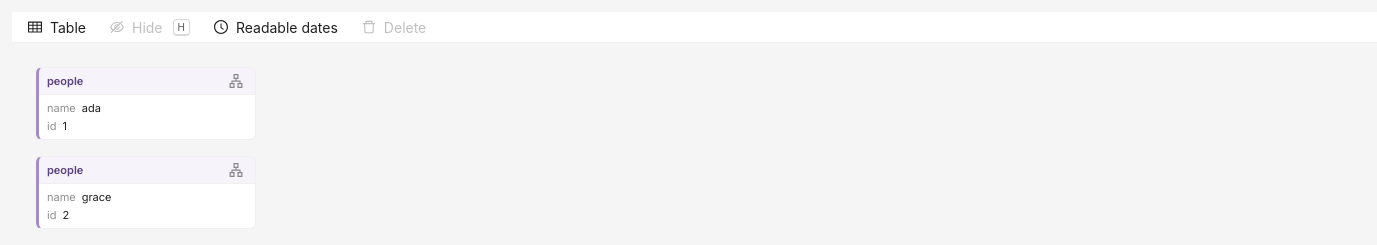
it: deleting cards › Backspace on cards that are all crossed out lets them go again
Click the element named "people 1".
click(146, 104)  # box [36,67,256,140]
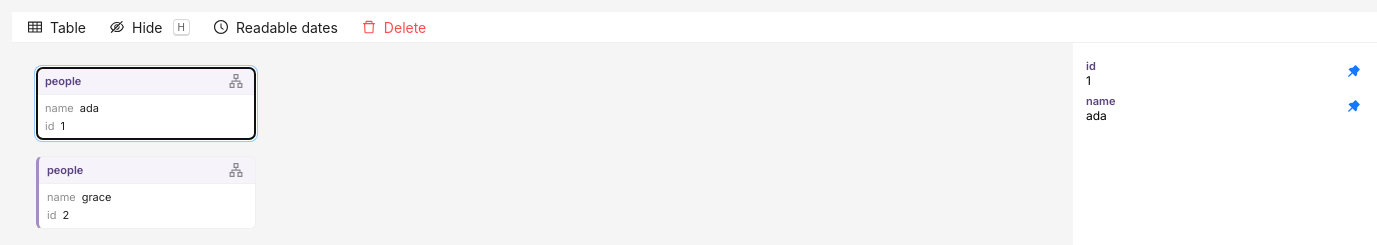
Press Backspace
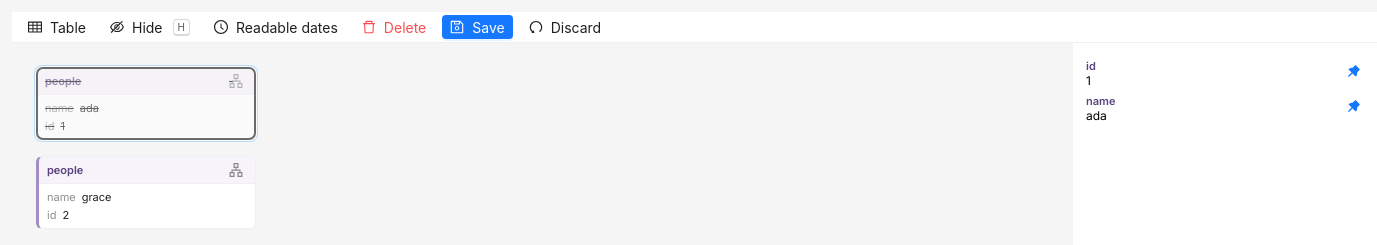
Press Backspace
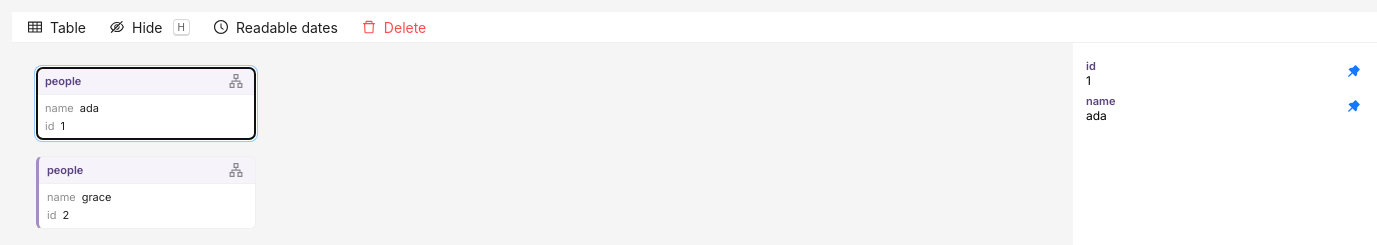
expect the button "Save" is gone: met
